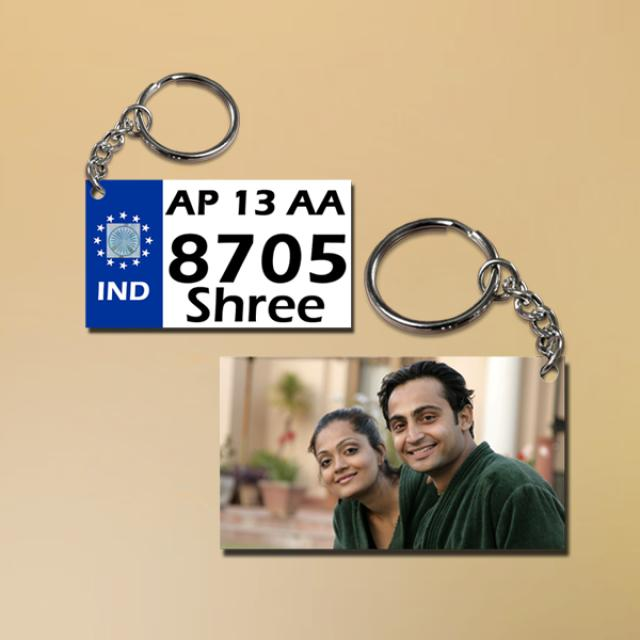plate: (88, 181, 357, 335)
